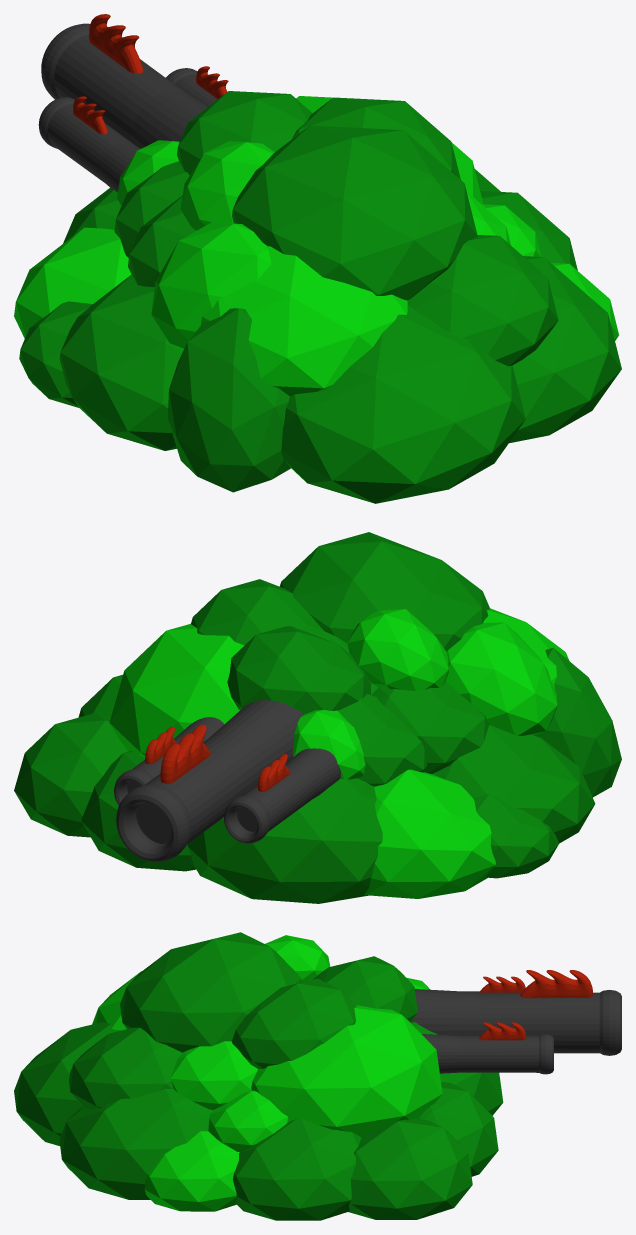
The model's file is BigCannon.fbx.
3 renders of one model, top to bottom at view 1: azimuth 30°, elevation 25°; view 2: azimuth 150°, elevation 25°; view 3: azimuth 270°, elevation 25°, orthographic. The views are drawn at different scales.
Parts seen in each view (by area): view 1: Bush, Bush.019, Bush.015, Bush.013, Bush.014, Bush.024, Bush.016, Circle.002, Bush.020, Bush.001, Bush.012, Circle.003 (+14 smaller); view 2: Bush.008, Bush.019, Circle.002, Bush.001, Bush.003, Bush.014, Bush.012, Bush.020, Bush.007, Circle.003, Bush.015, Bush.023 (+10 smaller); view 3: Bush.003, Bush.019, Bush.016, Bush.004, Bush.007, Circle.002, Bush.021, Bush.024, Bush.005, Bush, Circle.003, Bush.017 (+8 smaller).
Part boxes in pixels (x1,y1,x2,y2): Bush: (281,305,525,503); Bush.019: (232,125,477,300); Bush.015: (167,308,290,492); Bush.013: (200,246,407,396); Bush.014: (59,274,183,450); Bush.024: (407,235,558,366); Bush.016: (509,256,621,443); Circle.002: (41,23,207,148); Bush.020: (151,222,271,349); Bush.001: (14,227,131,338); Bush.012: (177,91,312,175); Circle.003: (38,68,217,192); Bush.008: (187,778,382,903); Bush.019: (280,532,490,651); Circle.002: (116,700,304,862); Bush.001: (364,769,495,898); Bush.003: (109,623,244,757); Bush.014: (432,725,595,843); Bush.012: (227,626,371,714); Bush.020: (446,622,557,735); Bush.007: (14,713,128,837); Circle.003: (114,717,340,843); Bush.015: (534,647,621,797); Bush.023: (347,609,448,690); Bush.003: (251,1005,442,1137); Bush.019: (120,932,301,1052); Bush.016: (59,1088,213,1199); Bush.004: (233,1118,361,1220); Bush.007: (348,1118,472,1219); Circle.002: (410,989,621,1055); Bush.021: (232,978,356,1068); Bush.024: (69,1027,181,1108); Bush.005: (144,1131,239,1211); Bush: (14,1022,119,1145); Circle.003: (422,990,553,1074); Bush.017: (170,1041,257,1109).
Bounding box in the file's own units: 2.55 × 1.92 × 0.9311.
